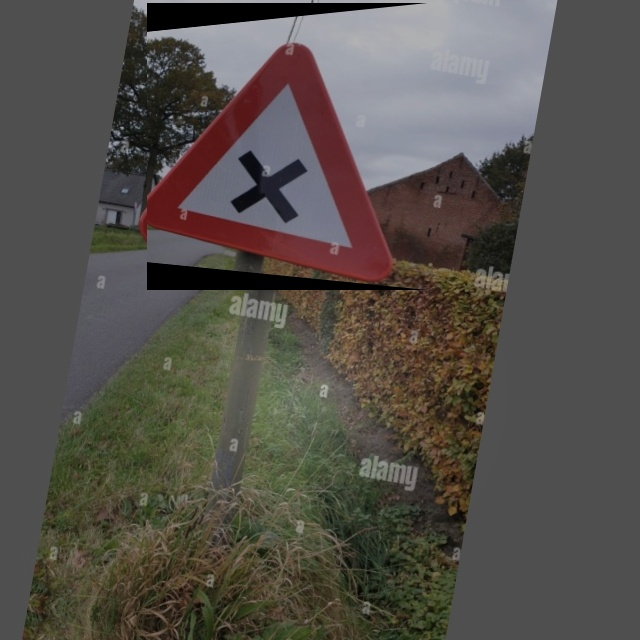Cross_Road: (147, 3, 428, 290)
